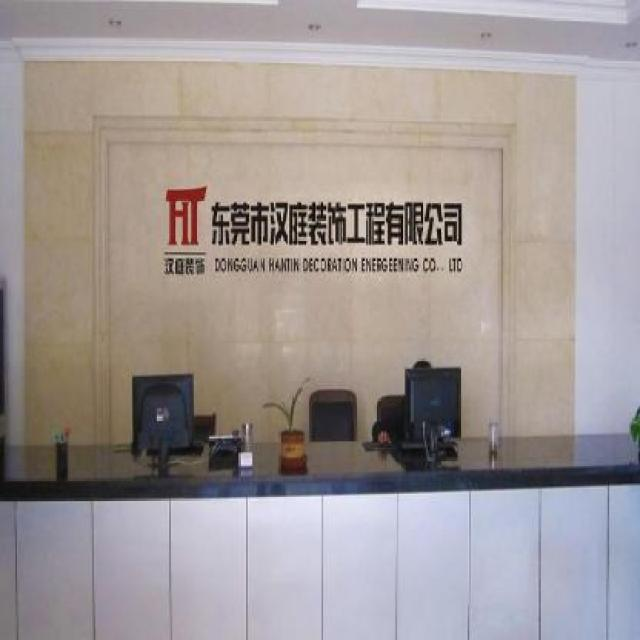frontdesk: (0, 409, 640, 640)
